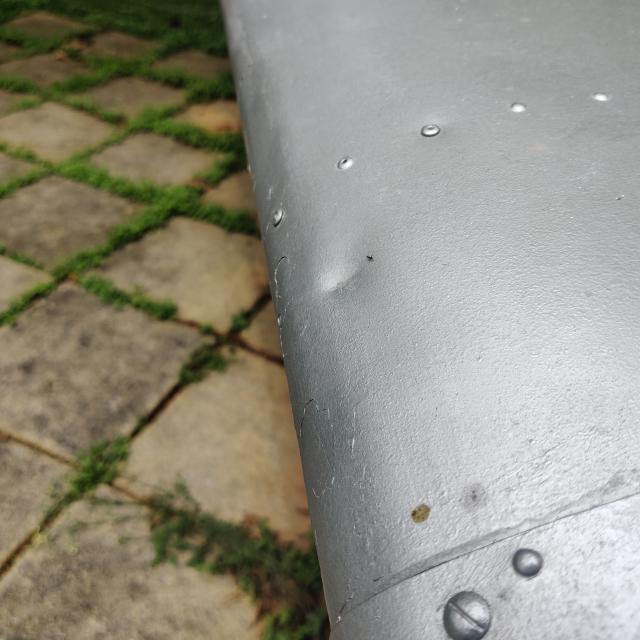dent: (294, 228, 397, 326)
